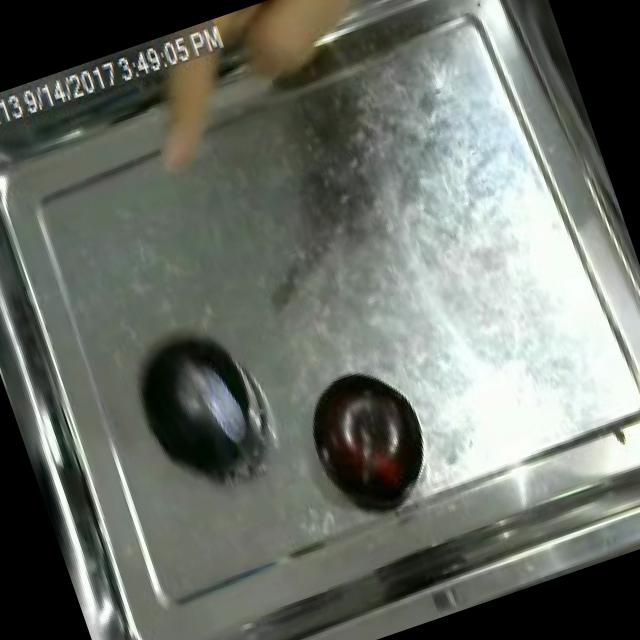Fruit: (119, 318, 274, 494), (290, 353, 436, 522)
